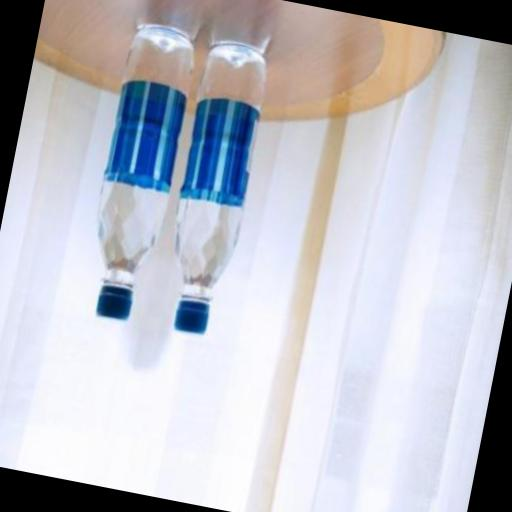Coca: (68, 10, 210, 340), (144, 33, 282, 350)
